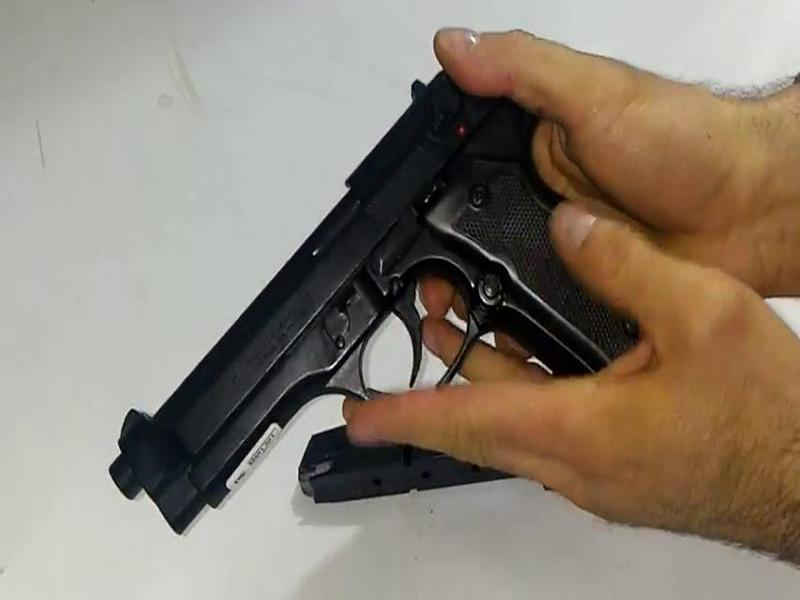Pistola: (91, 43, 664, 558)
